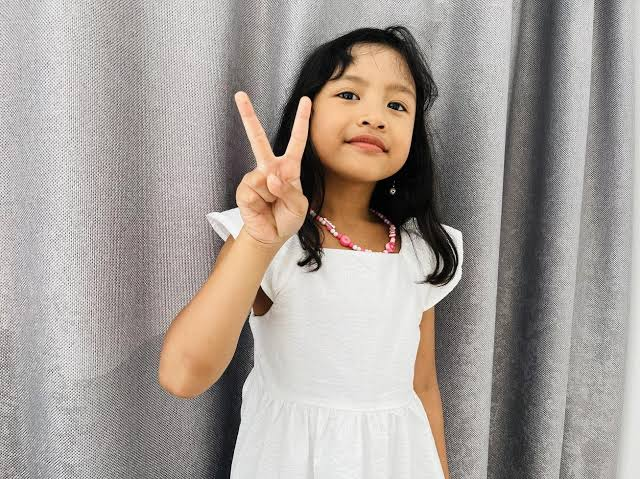peace_sign: (228, 80, 312, 245)
